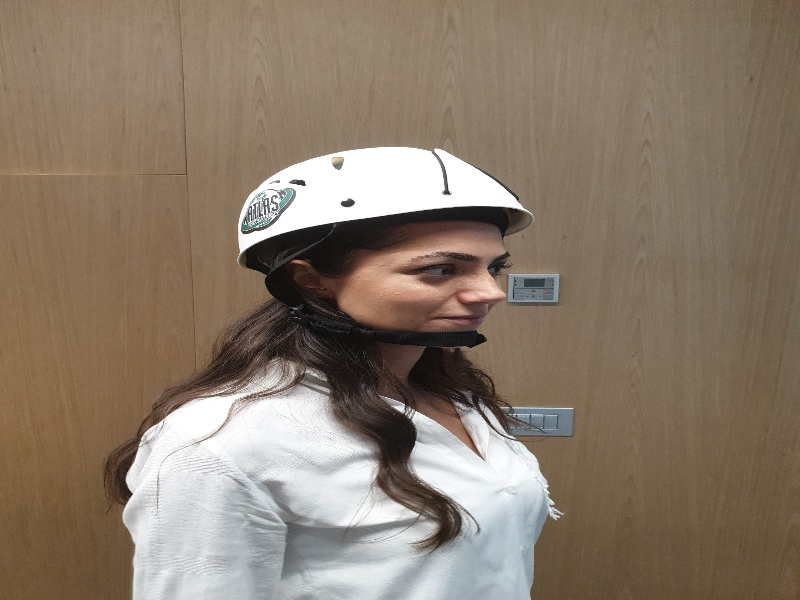Baret: (235, 145, 536, 246)
